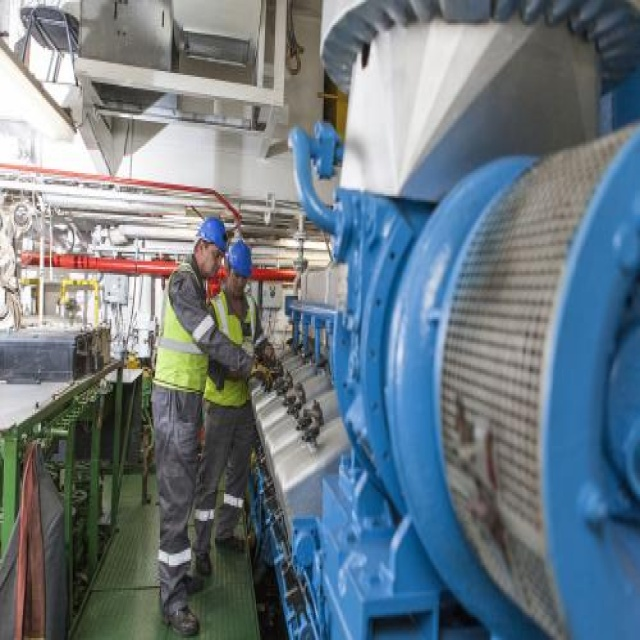Helmet: (189, 211, 231, 286), (220, 233, 260, 304)
Reflective vest: (152, 259, 214, 398), (207, 288, 259, 411)
